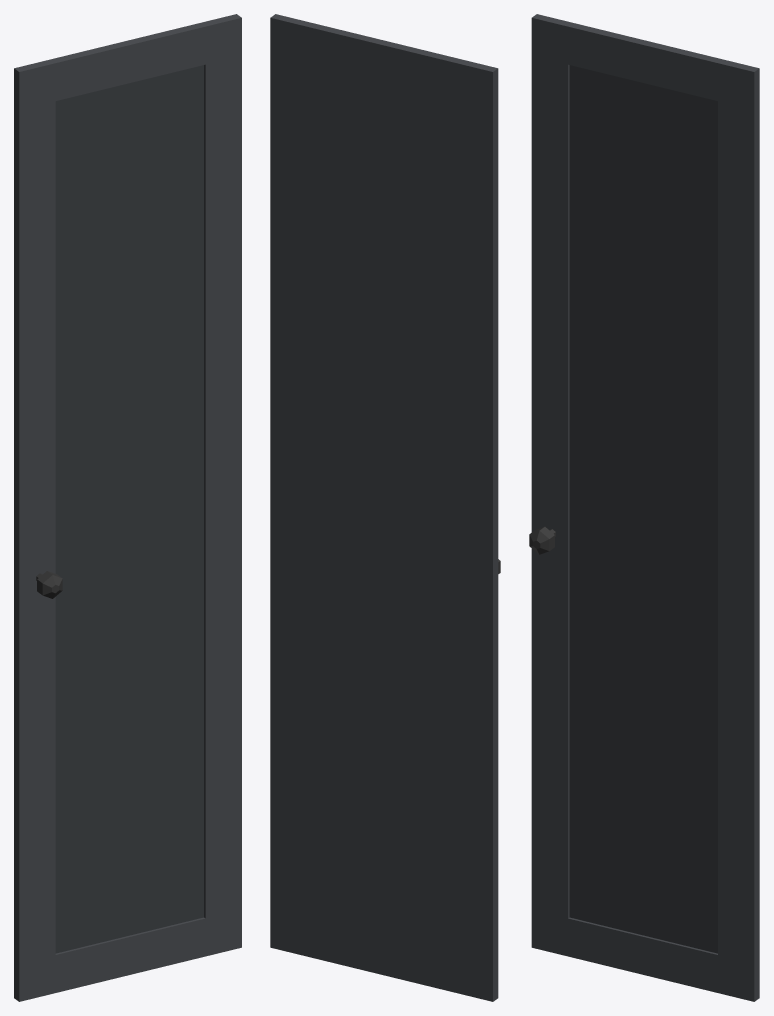
Rendered from Wardrobe7_C2_02.fbx.
3 renders of one model, left to right at view 1: azimuth 30°, elevation 25°; view 2: azimuth 150°, elevation 25°; view 3: azimuth 330°, elevation 25°, orthographic.
Visible parts, largest first — view 1: Wardrobe7_C2_02; view 2: Wardrobe7_C2_02; view 3: Wardrobe7_C2_02.
Boxes of the visible parts, box(x1,y1,x2,y2) form: Wardrobe7_C2_02: box(14, 14, 241, 1001); Wardrobe7_C2_02: box(270, 14, 500, 1001); Wardrobe7_C2_02: box(529, 14, 759, 1001).
Bounding box in the file's own units: 50 × 200 × 8.1.
